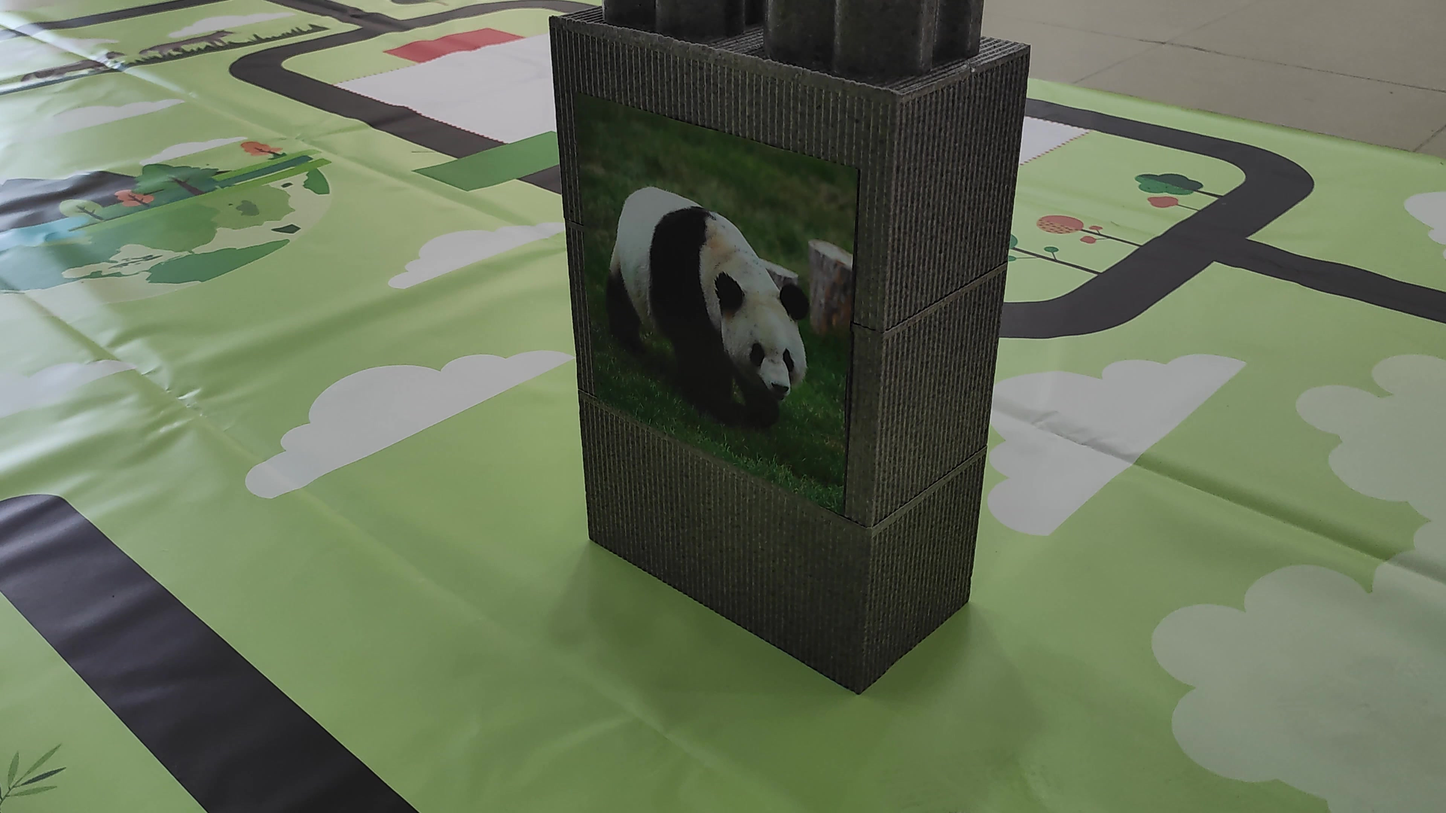panda: (585, 121, 839, 454)
